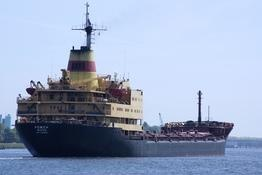Cargoship: (7, 2, 235, 164)
